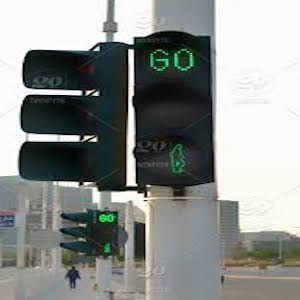green: (158, 141, 198, 180)
